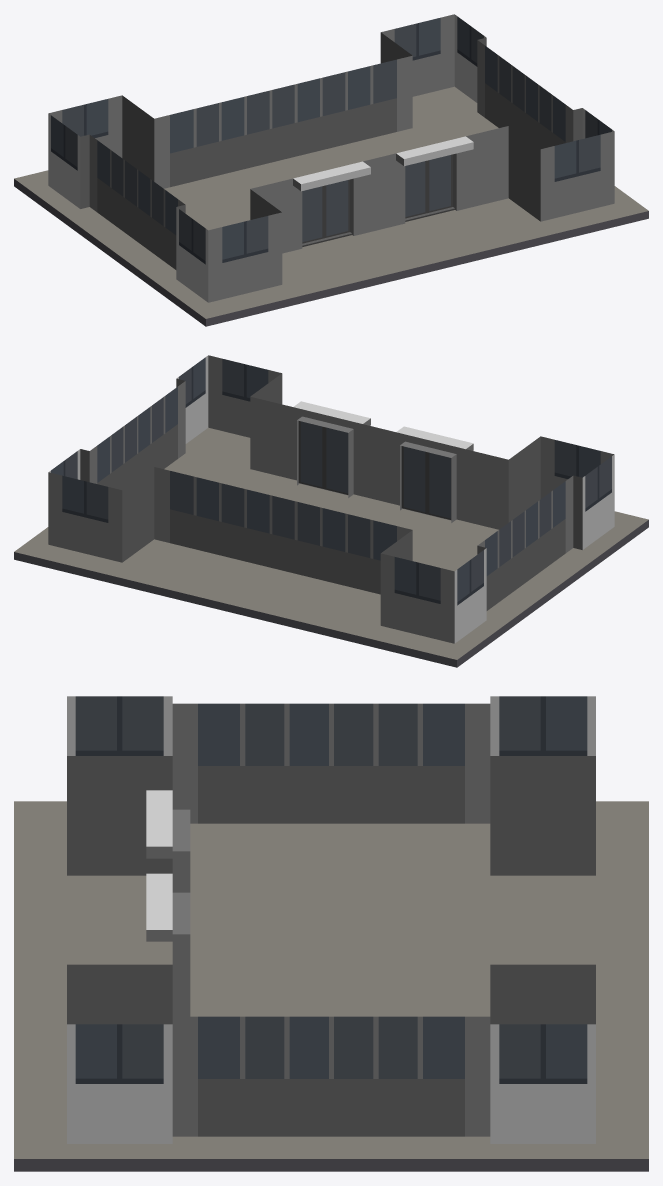
The model's file is TB_CITY_Skysc_K_Bottom_Gray.FBX.
The picture shows the model from 3 angles, top to bottom: view 1: azimuth 30°, elevation 25°; view 2: azimuth 150°, elevation 25°; view 3: azimuth 270°, elevation 25°; orthographic projection. The views are drawn at different scales.
Visible parts, largest first — view 1: TB_CITY_Skysc_K_Bottom_Gray; view 2: TB_CITY_Skysc_K_Bottom_Gray; view 3: TB_CITY_Skysc_K_Bottom_Gray.
Part boxes in pixels (<box>): TB_CITY_Skysc_K_Bottom_Gray: <box>14,14,648,326</box>; TB_CITY_Skysc_K_Bottom_Gray: <box>14,355,648,667</box>; TB_CITY_Skysc_K_Bottom_Gray: <box>14,696,648,1171</box>.
Size of the model in its own units: 48 by 8.3 by 36.
